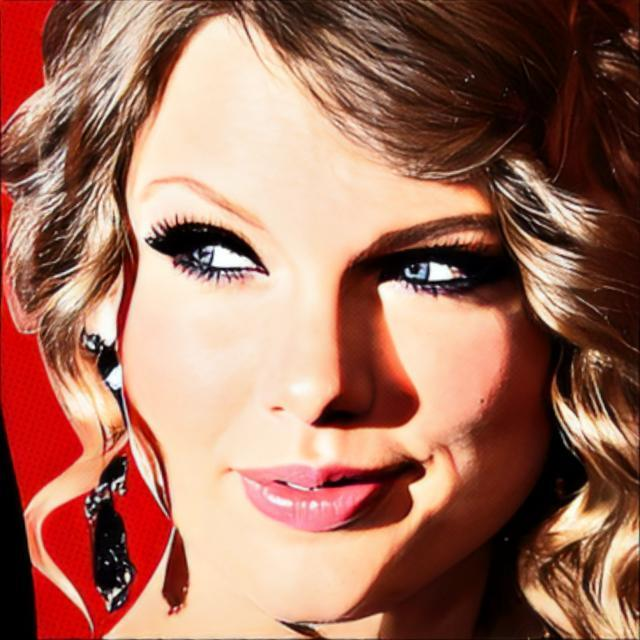content: (114, 6, 558, 626)
